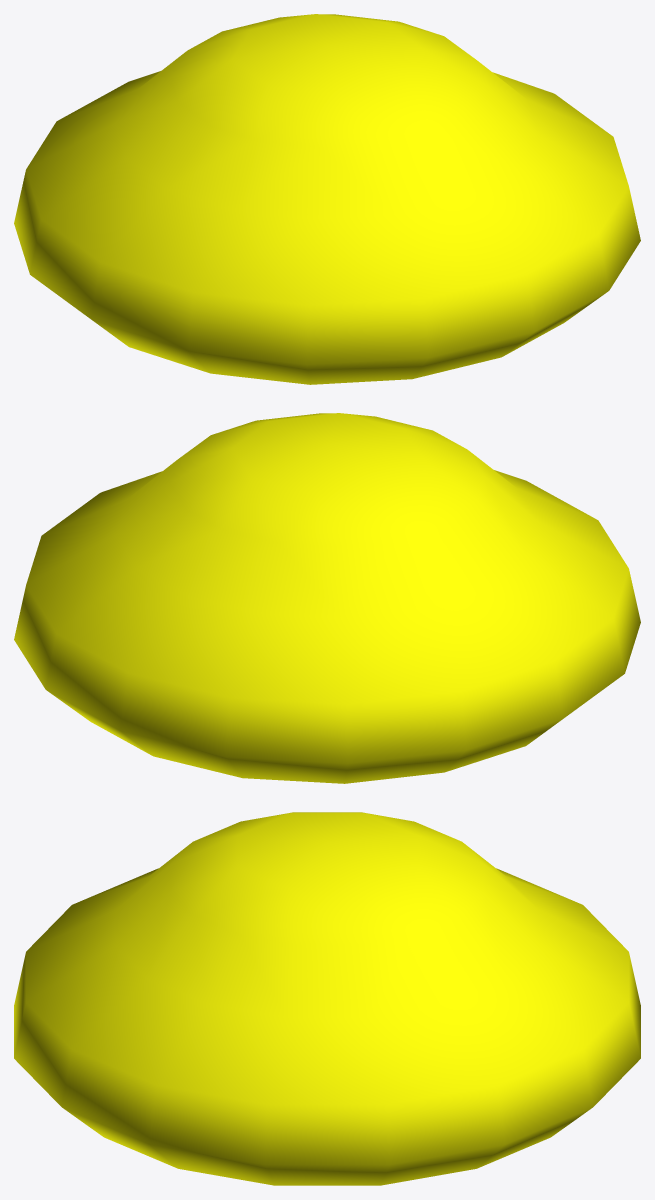
Rendered from kaykit-bush-3-a-color-1.glb.
3 views of the same model, one above another, from view 1: azimuth 30°, elevation 25°; view 2: azimuth 150°, elevation 25°; view 3: azimuth 270°, elevation 25° (orthographic).
Parts seen in each view (by area): view 1: Bush_3_A_Color1; view 2: Bush_3_A_Color1; view 3: Bush_3_A_Color1.
Boxes of the visible parts, <box> form: Bush_3_A_Color1: <box>14,14,640,384</box>; Bush_3_A_Color1: <box>14,413,640,783</box>; Bush_3_A_Color1: <box>14,812,640,1185</box>.
Bounding box in the file's own units: 1.03 × 0.4853 × 1.03.
